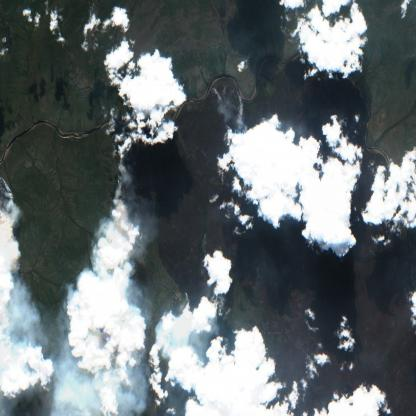fire: (104, 143, 148, 253), (185, 291, 233, 335), (0, 166, 22, 246), (206, 77, 249, 115)
